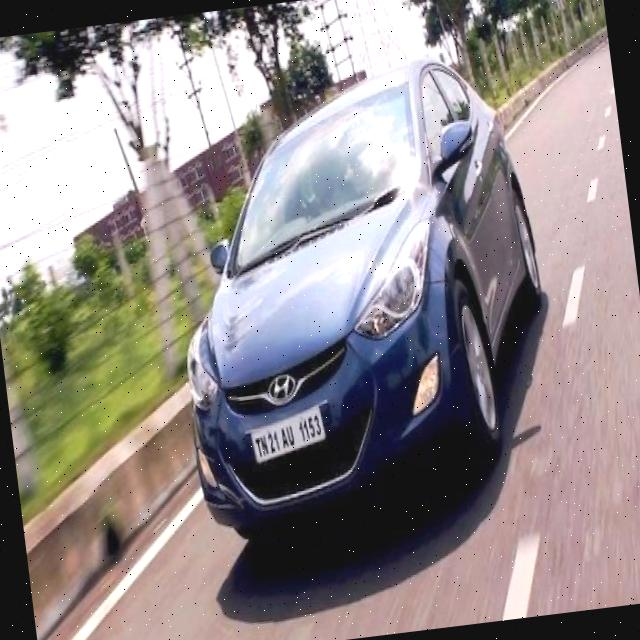Autre: (245, 402, 332, 466)
